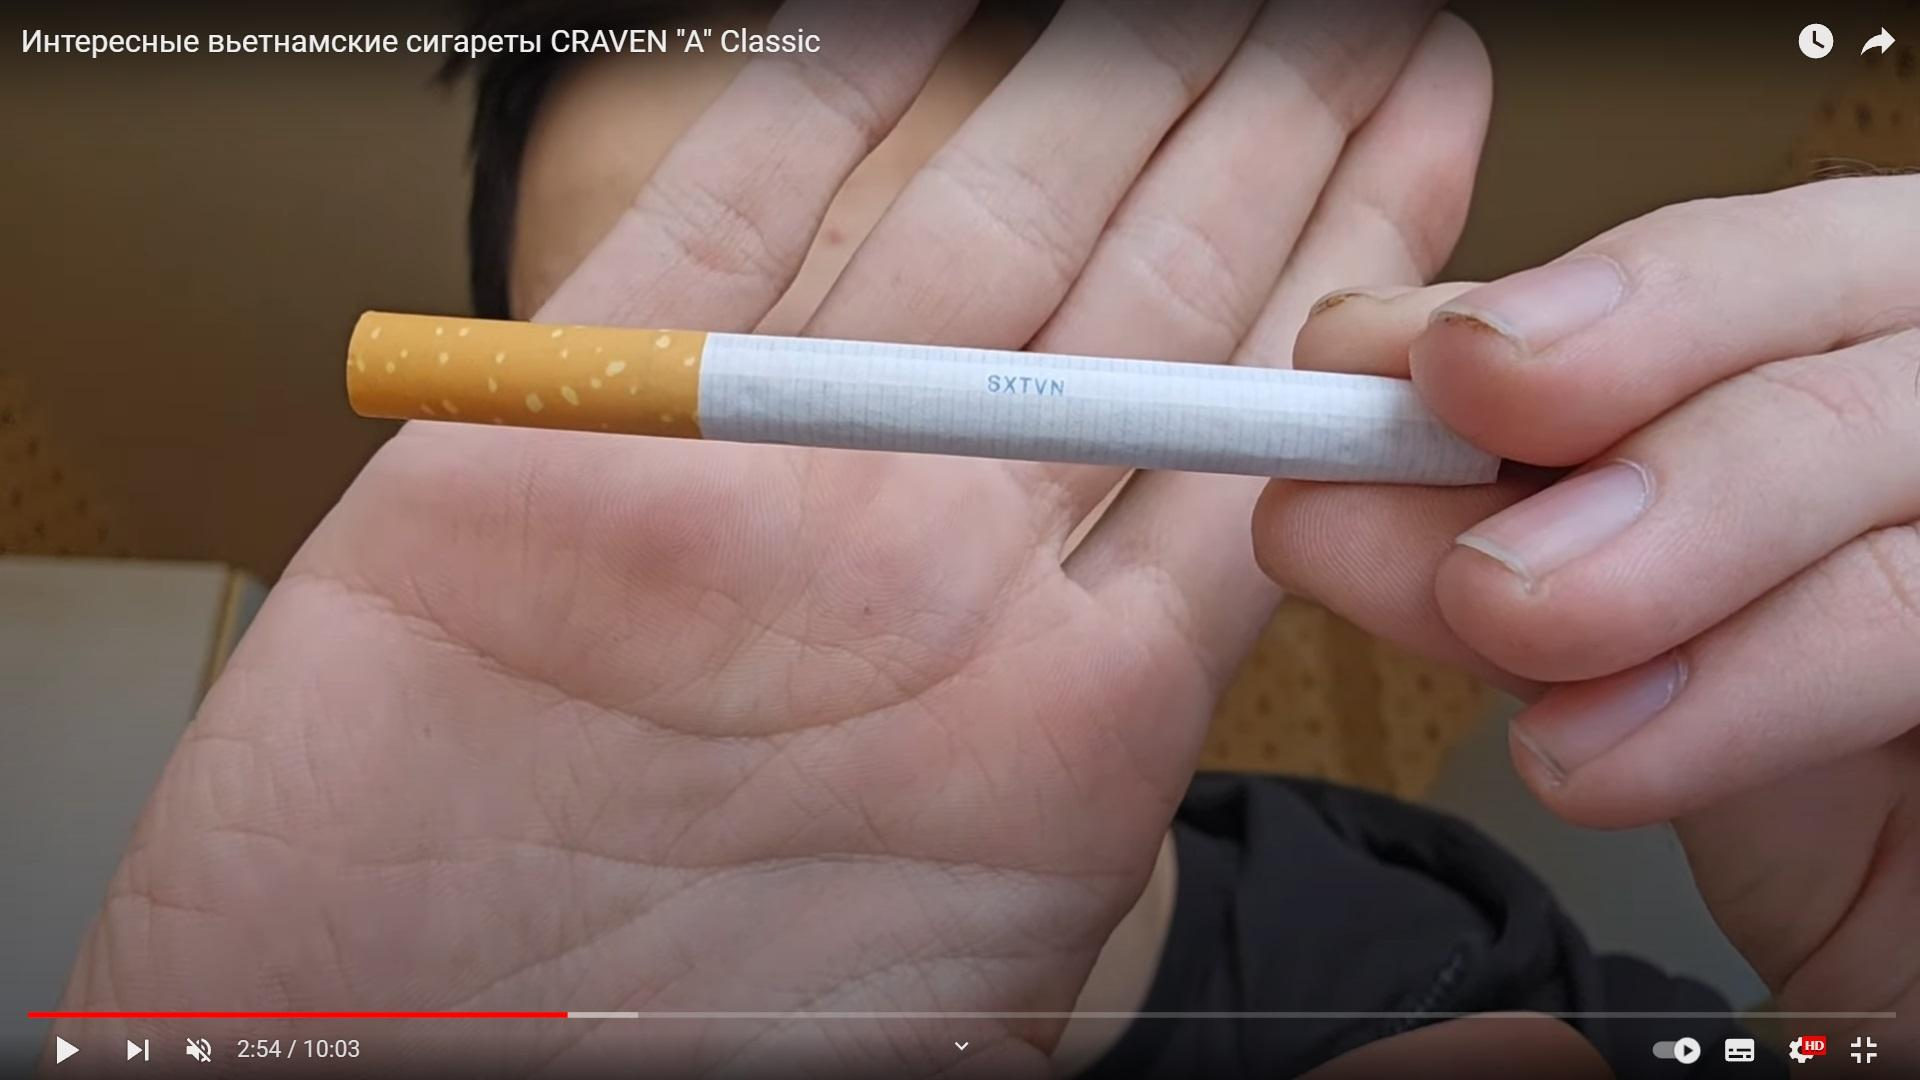cigarette: (342, 307, 1511, 492)
